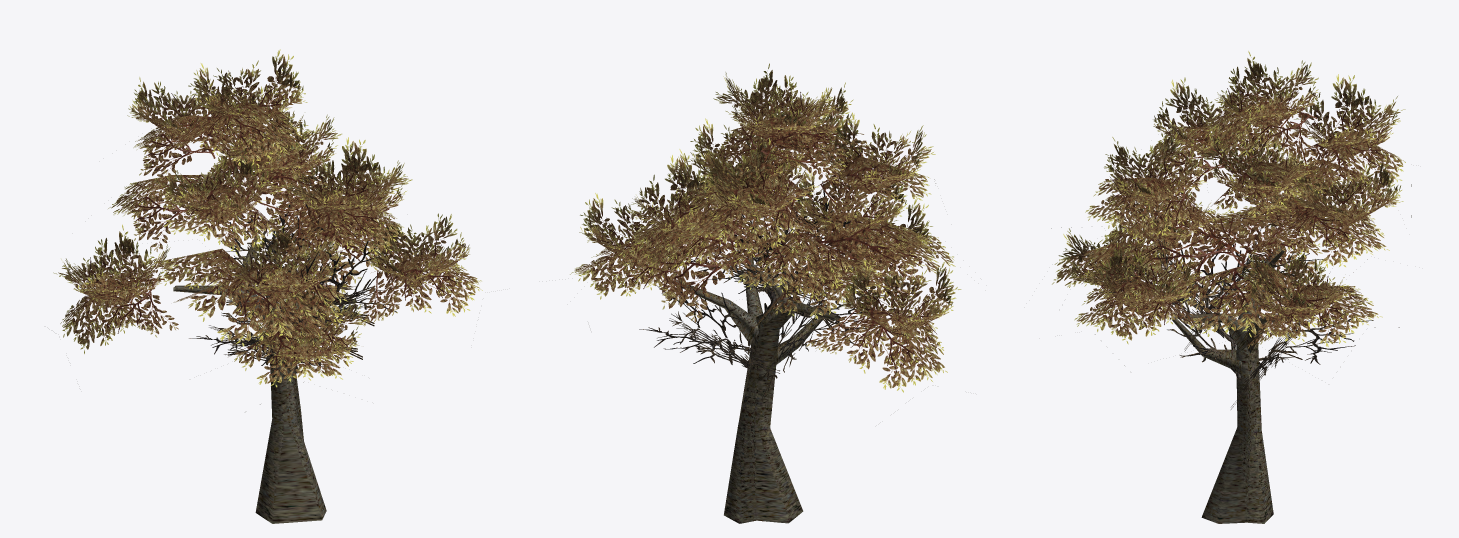
The model's file is flora_tree_oak_holly_autumn_v3.glb.
3 views of the same model, side by side, from view 1: azimuth 30°, elevation 25°; view 2: azimuth 150°, elevation 25°; view 3: azimuth 270°, elevation 25° (orthographic). The views are drawn at different scales.
Visible parts, largest first — view 1: flora_tree_oak_holly_autumn_v3_part0, flora_tree_oak_holly_autumn_v3_part1; view 2: flora_tree_oak_holly_autumn_v3_part0, flora_tree_oak_holly_autumn_v3_part1; view 3: flora_tree_oak_holly_autumn_v3_part0, flora_tree_oak_holly_autumn_v3_part1.
Part boxes in pixels (x1,y1,x2,y2): flora_tree_oak_holly_autumn_v3_part0: (53, 49, 482, 523); flora_tree_oak_holly_autumn_v3_part1: (189, 202, 399, 368); flora_tree_oak_holly_autumn_v3_part0: (570, 63, 961, 523); flora_tree_oak_holly_autumn_v3_part1: (639, 163, 887, 399); flora_tree_oak_holly_autumn_v3_part0: (1051, 51, 1411, 523); flora_tree_oak_holly_autumn_v3_part1: (1101, 212, 1373, 409).
Size of the model in its own units: 24.75 by 27.4 by 22.93.
2 materials, 2 textured.
